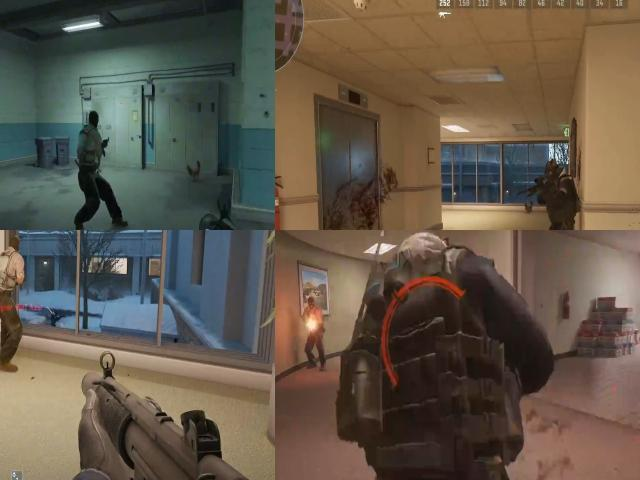CT-Head: (528, 156, 580, 230), (542, 161, 565, 190)
T: (77, 104, 106, 182), (0, 239, 24, 304), (302, 292, 326, 340)
T-Head: (85, 108, 101, 133), (8, 233, 22, 258), (308, 297, 319, 312)
